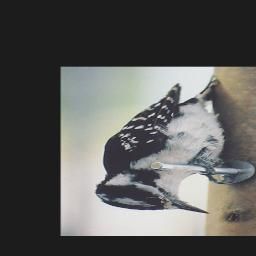Woodpecker: (94, 75, 234, 214)
